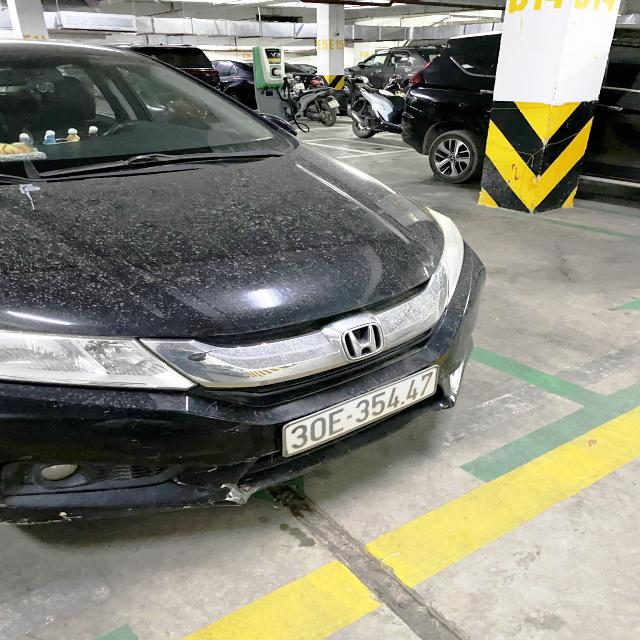license_plate: (281, 364, 441, 463)
